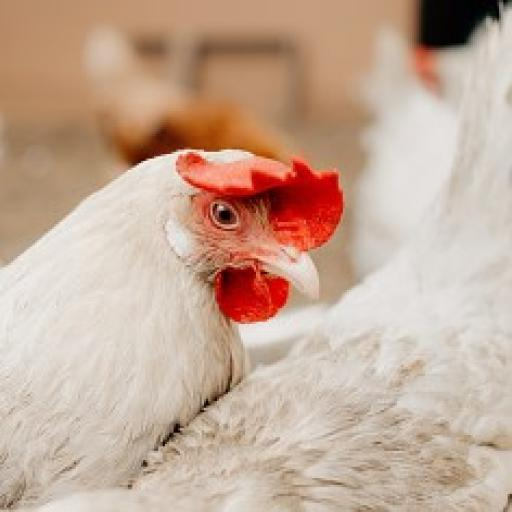healthy: (172, 132, 351, 319)
